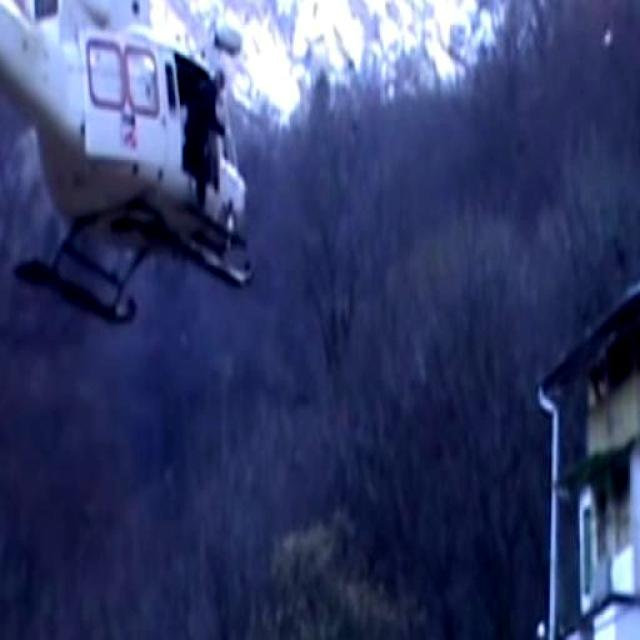drone: (0, 0, 274, 314)
